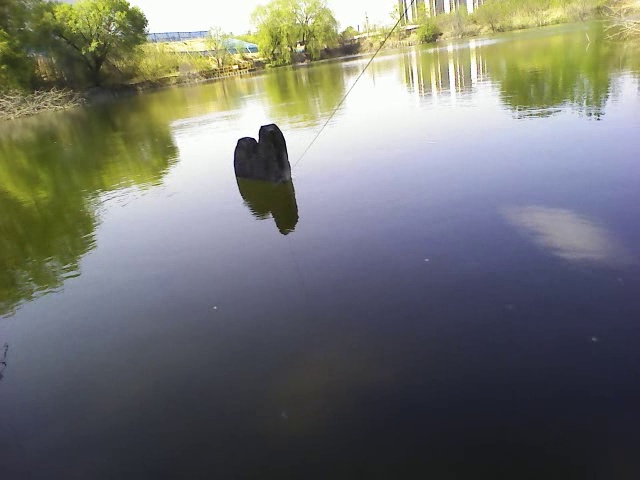rock: (230, 121, 297, 184)
